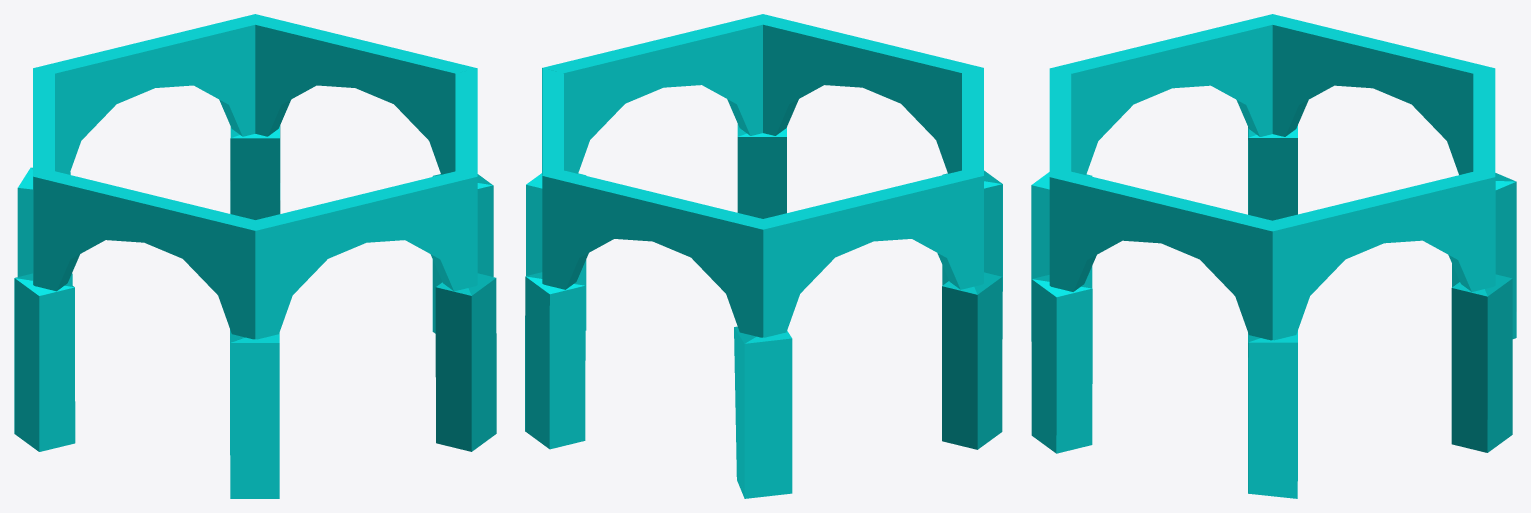
The model's file is SM_Bld_Wall_Tower_03_Collision.fbx.
The picture shows the model from 3 angles, left to right: view 1: azimuth 30°, elevation 25°; view 2: azimuth 150°, elevation 25°; view 3: azimuth 270°, elevation 25°; orthographic projection.
Visible parts, largest first — view 1: SM_Bld_Wall_Tower_03_Collision; view 2: SM_Bld_Wall_Tower_03_Collision; view 3: SM_Bld_Wall_Tower_03_Collision.
Part boxes in pixels (x1,y1,x2,y2): SM_Bld_Wall_Tower_03_Collision: (14,14,496,498); SM_Bld_Wall_Tower_03_Collision: (525,14,1002,498); SM_Bld_Wall_Tower_03_Collision: (1031,14,1516,498).
Bounding box in the file's own units: 538 × 300 × 496.
